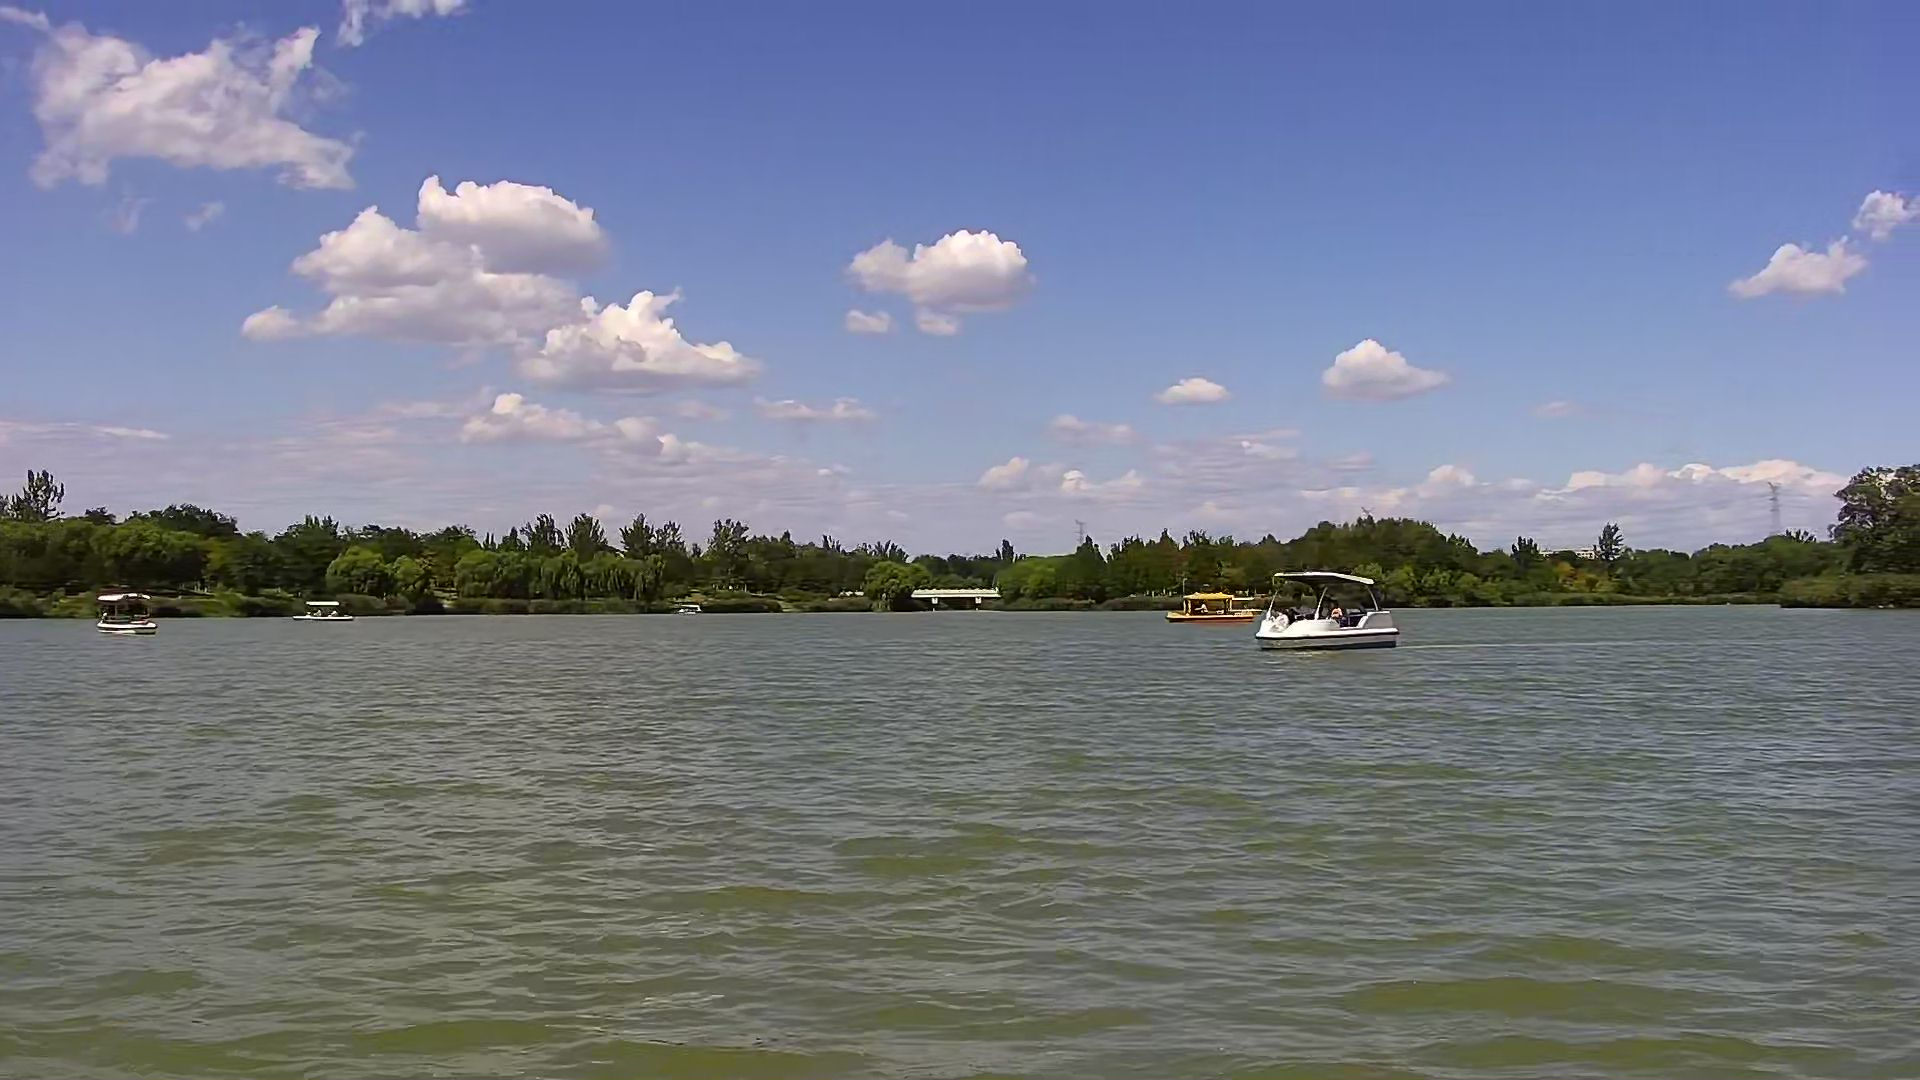boat: (1255, 563, 1404, 651), (79, 589, 164, 637), (1160, 587, 1255, 622), (287, 593, 349, 626)
bridge: (903, 580, 1005, 615)
